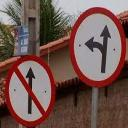NoSeguir: (5, 54, 56, 128)
